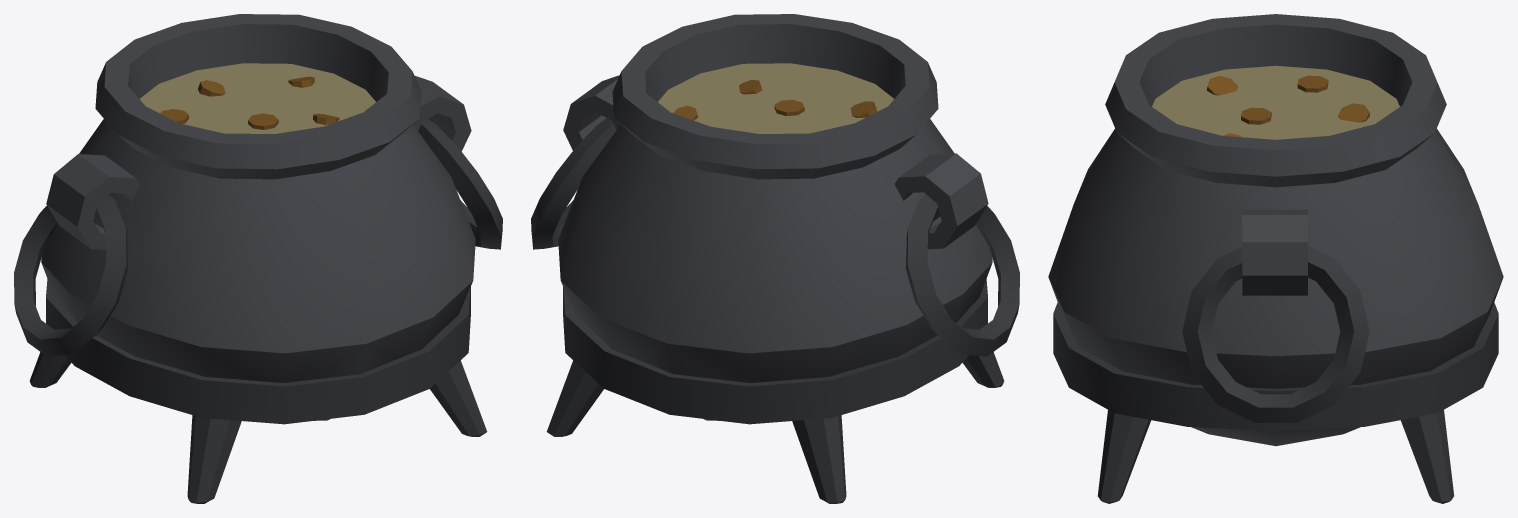
The model's file is Cauldron.glb.
3 renders of one model, left to right at view 1: azimuth 30°, elevation 25°; view 2: azimuth 150°, elevation 25°; view 3: azimuth 270°, elevation 25°, orthographic. The views are drawn at different scales.
Visible parts, largest first — view 1: Cauldron_Merged; view 2: Cauldron_Merged; view 3: Cauldron_Merged.
Boxes of the visible parts, x1,y1,x2,y2 form: Cauldron_Merged: [14, 14, 502, 503]; Cauldron_Merged: [531, 14, 1019, 503]; Cauldron_Merged: [1048, 14, 1503, 503].
Size of the model in its own units: 0.3607 by 0.2518 by 0.2988.
